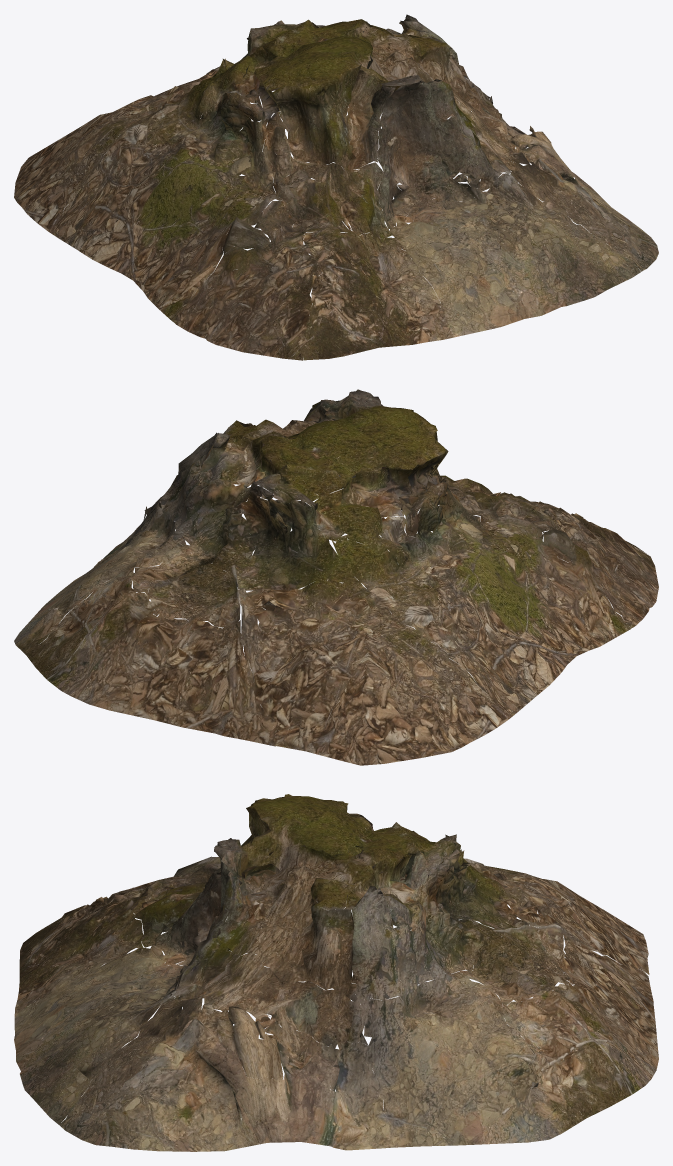
File: tree_stump_01.gltf
The picture shows the model from 3 angles, top to bottom: view 1: azimuth 30°, elevation 25°; view 2: azimuth 150°, elevation 25°; view 3: azimuth 270°, elevation 25°; orthographic projection. The views are drawn at different scales.
Parts seen in each view (by area): view 1: tree_stump_01; view 2: tree_stump_01; view 3: tree_stump_01.
Part boxes in pixels (<box>): tree_stump_01: <box>14,14,658,360</box>; tree_stump_01: <box>14,389,658,765</box>; tree_stump_01: <box>14,794,658,1151</box>.
Size of the model in its own units: 1.42 by 0.5722 by 1.59.
1 material, 1 textured.
